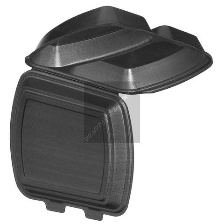foam_box: (2, 0, 217, 224)
